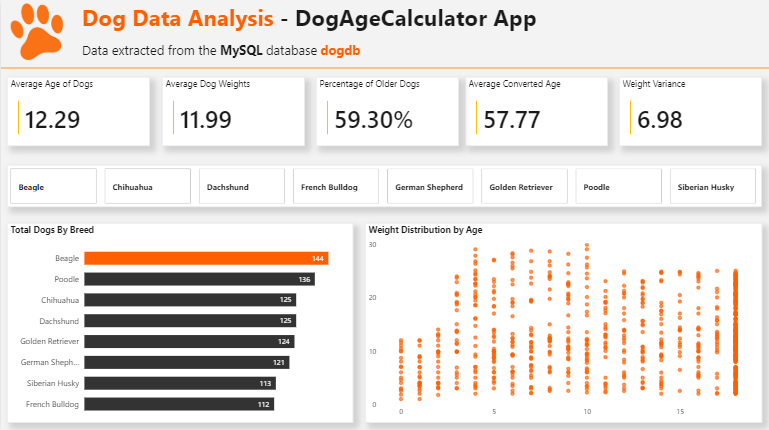

The page's visual inventory and layout, read from the dashboard file:
{"tool":"powerbi","page":{"name":"Page 1","canvas":[1280,720],"ordinal":0},"visuals":[{"type":"textbox","box":[130,0,1150,108.3],"z":0},{"type":"shape","box":[0,103.3,1280,23.3],"z":1000},{"type":"barChart","title":"Total Dogs By Breed","fields":{"Category":["dogdb datatable.Breed"],"Y":["dogdb datatable.Total Dogs"]},"box":[10,373.3,576.7,333.3],"z":2000},{"type":"scatterChart","title":"Weight Distribution by Age","fields":{"X":["dogdb datatable.Age"],"Y":["dogdb datatable.Weight"]},"box":[606.7,373.3,661.7,333.3],"z":3000},{"type":"cardVisual","title":"Average Age of Dogs","fields":{"Data":["dogdb datatable.Average Age"]},"box":[10,130,238.3,115],"z":4000},{"type":"cardVisual","title":"Average Dog Weights","fields":{"Data":["dogdb datatable.Avarage Weight"]},"box":[268.3,130,238.3,115],"z":5000},{"type":"cardVisual","title":"Weight Variance","fields":{"Data":["dogdb datatable.Weight Variance"]},"box":[1030,130,238.3,115],"z":6000},{"type":"cardVisual","title":"Average Converted Age","fields":{"Data":["dogdb datatable.Average Converted Age"]},"box":[773.3,130,238.3,115],"z":7000},{"type":"cardVisual","title":"Percentage of Older Dogs","fields":{"Data":["dogdb datatable.Percentage Senior"]},"box":[525,130,238.3,115],"z":8000},{"type":"advancedSlicerVisual","fields":{"Values":["dogdb datatable.Breed"]},"box":[10,276.7,1258.3,70],"z":9000},{"type":"image","box":[10,5,103.3,98.3],"z":10000}]}

Visuals, with their boxes in screenshot pixels (x1, y1, x2, y2), scaled from the page's 1280x720 canvas onto the 769x430 screenshot:
textbox: bbox=(78, 0, 768, 65)
shape: bbox=(0, 62, 768, 76)
"Total Dogs By Breed" barChart: bbox=(6, 223, 352, 422)
"Weight Distribution by Age" scatterChart: bbox=(364, 223, 762, 422)
"Average Age of Dogs" cardVisual: bbox=(6, 78, 149, 146)
"Average Dog Weights" cardVisual: bbox=(161, 78, 304, 146)
"Weight Variance" cardVisual: bbox=(619, 78, 762, 146)
"Average Converted Age" cardVisual: bbox=(465, 78, 608, 146)
"Percentage of Older Dogs" cardVisual: bbox=(315, 78, 459, 146)
advancedSlicerVisual - dogdb datatable.Breed: bbox=(6, 165, 762, 207)
image: bbox=(6, 3, 68, 62)
